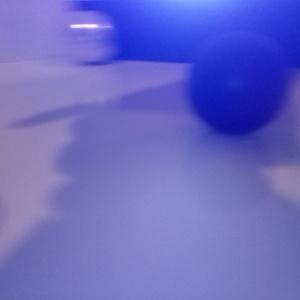alive_ball: (55, 10, 114, 64)
dead_ball: (188, 30, 290, 135)
